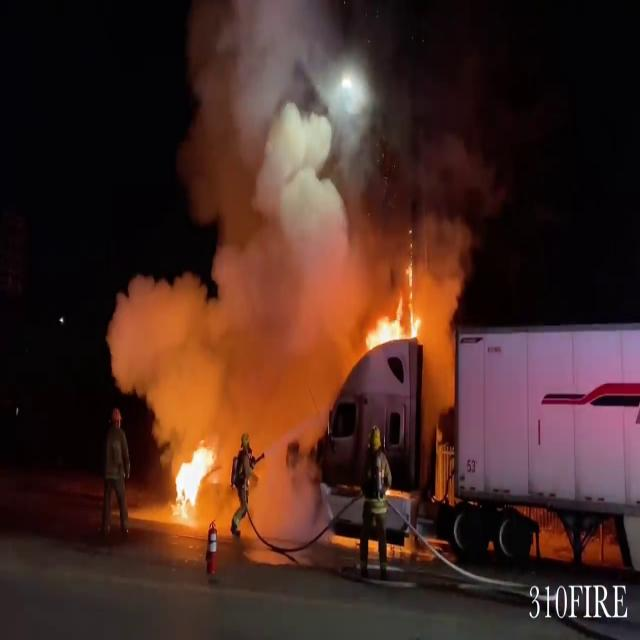Fire: (362, 279, 432, 354), (165, 434, 223, 522)
Smoke: (110, 1, 487, 414)
